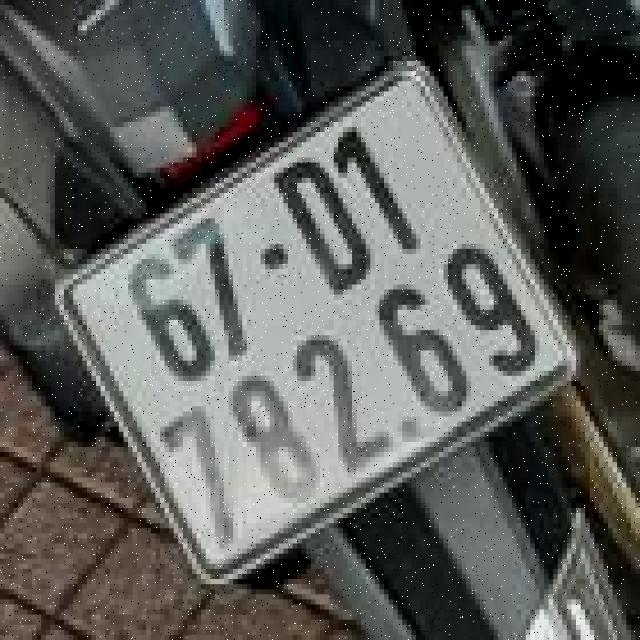1: (327, 111, 444, 267)
2: (275, 319, 413, 487)
6: (112, 241, 227, 402), (366, 275, 477, 426)
7: (169, 204, 281, 373), (148, 391, 251, 563)
8: (221, 362, 330, 518)
9: (428, 218, 555, 394)
D: (263, 149, 388, 320)
